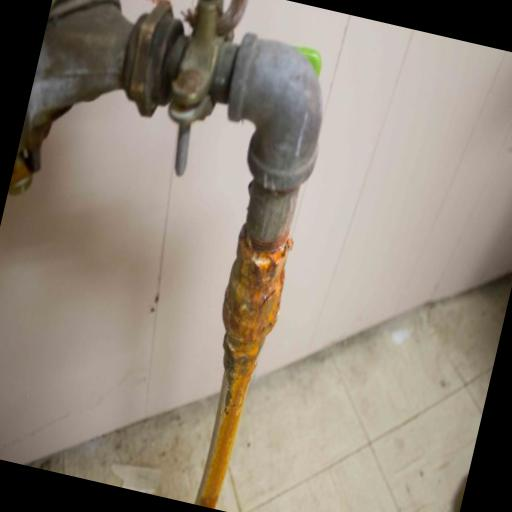segmentation: (194, 225, 287, 506)
